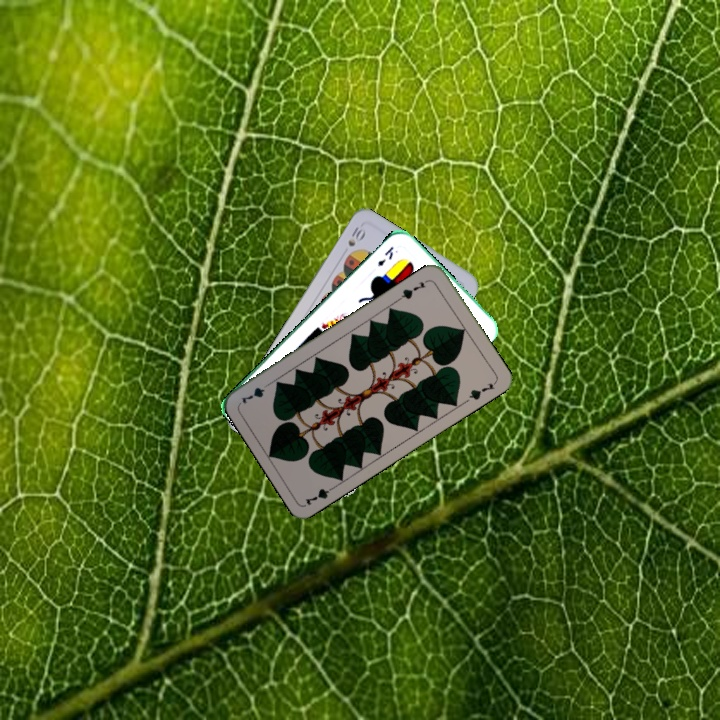EK: (373, 243, 396, 269)
G7: (301, 481, 340, 508), (395, 277, 428, 302)
S10: (344, 223, 367, 249)
